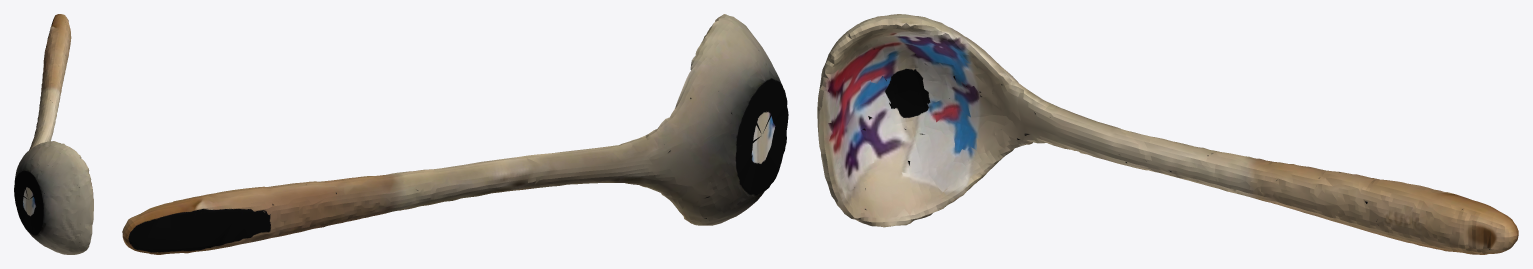
Rendered from Spoon.obj.
3 views of the same model, side by side, from view 1: azimuth 30°, elevation 25°; view 2: azimuth 150°, elevation 25°; view 3: azimuth 270°, elevation 25° (orthographic). The views are drawn at different scales.
Bounding box in the file's own units: 0.169 × 0.0897 × 0.2791.
1 material, 1 textured.
